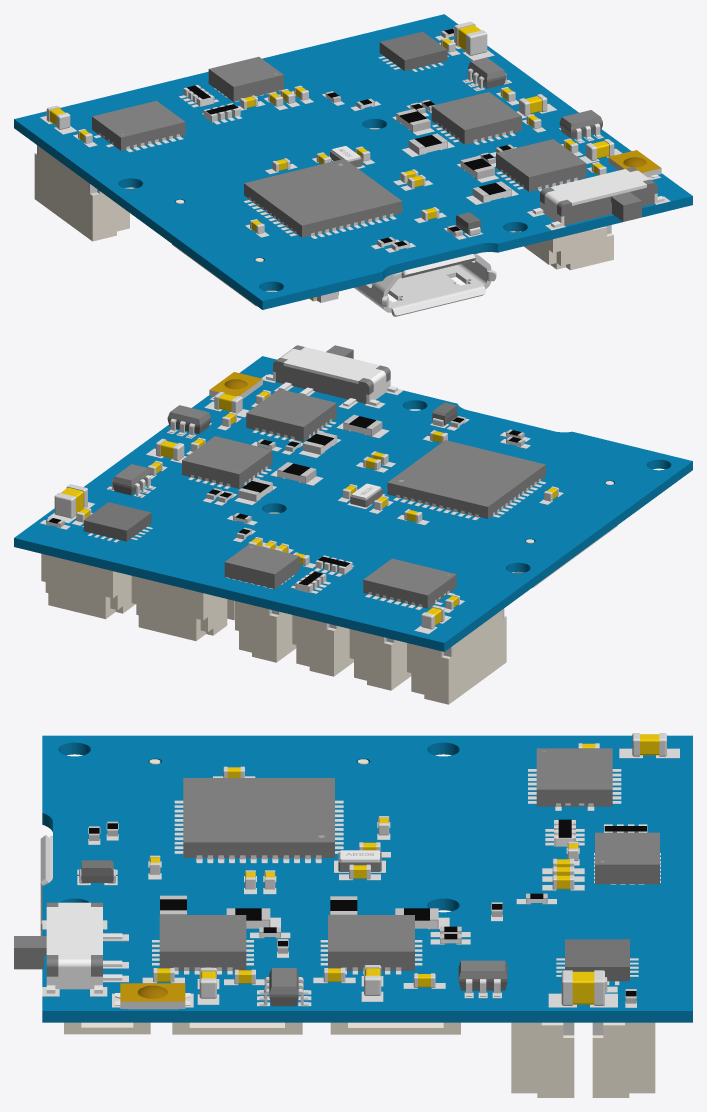
File: RobotZero.glb
3 views of the same model, one above another, from view 1: azimuth 30°, elevation 25°; view 2: azimuth 150°, elevation 25°; view 3: azimuth 270°, elevation 25° (orthographic). The views are drawn at different scales.
Visible parts, largest first — view 1: Compound (Meshed)1.001; view 2: Compound (Meshed)1.001; view 3: Compound (Meshed)1.001.
Boxes of the visible parts, bbox=[...] form: Compound (Meshed)1.001: bbox=[14, 14, 692, 316]; Compound (Meshed)1.001: bbox=[14, 345, 692, 704]; Compound (Meshed)1.001: bbox=[14, 733, 692, 1097].
Bounding box in the file's own units: 30 × 6.25 × 31.3.
